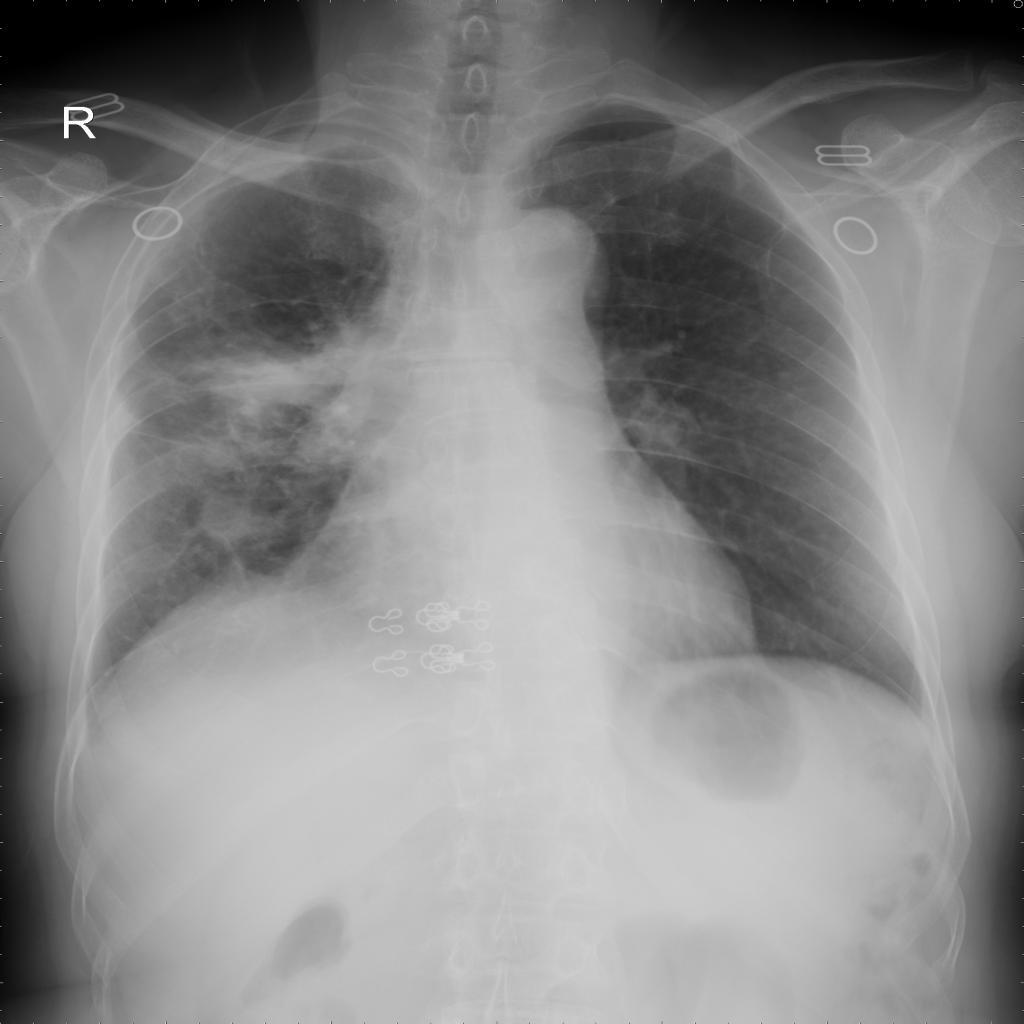Nodule: (199, 488, 254, 542)
